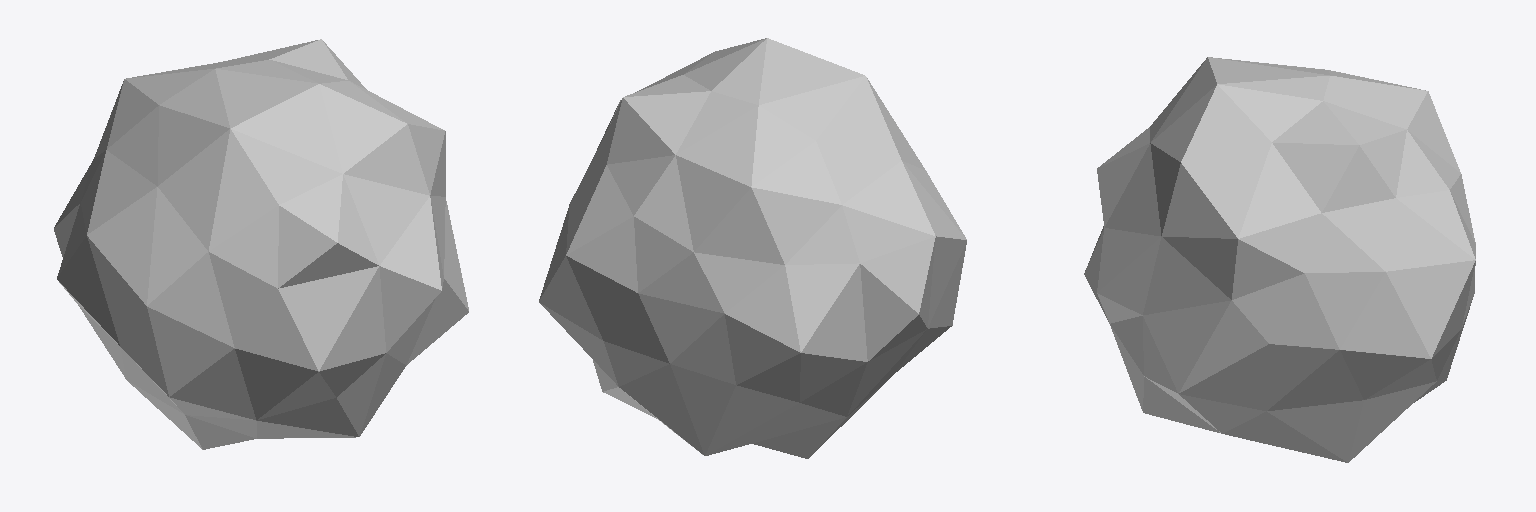
Rendered from asteroidA.obj.
3 renders of one model, left to right at view 1: azimuth 30°, elevation 25°; view 2: azimuth 150°, elevation 25°; view 3: azimuth 270°, elevation 25°, orthographic.
Visible parts, largest first — view 1: Meteor_1_Cube.013; view 2: Meteor_1_Cube.013; view 3: Meteor_1_Cube.013.
Part boxes in pixels (bbox=[...]): Meteor_1_Cube.013: bbox=[54, 39, 468, 449]; Meteor_1_Cube.013: bbox=[539, 38, 966, 458]; Meteor_1_Cube.013: bbox=[1084, 57, 1475, 462].
Size of the model in its own units: 1.13 by 1.15 by 1.09.